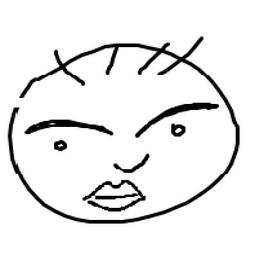cupid_mouth: (80, 179, 148, 216)
eyebrow: (23, 116, 116, 138)
frowning_eyebrow: (126, 98, 222, 143)
nose: (107, 154, 152, 176)
small_eye: (168, 122, 190, 140), (51, 138, 66, 154)
